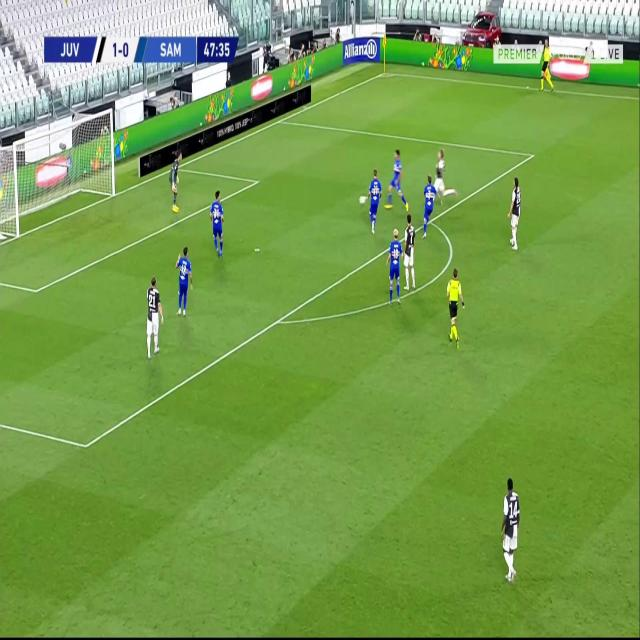ball: (359, 194, 366, 204)
player: (500, 472, 522, 583), (144, 272, 164, 360), (384, 148, 408, 214), (446, 265, 465, 347), (174, 246, 193, 316), (386, 225, 402, 308), (402, 212, 418, 292), (433, 149, 455, 204), (507, 174, 523, 249), (209, 188, 226, 258), (364, 169, 382, 233), (420, 172, 435, 237), (538, 38, 554, 92), (169, 147, 181, 209), (171, 198, 180, 213)
